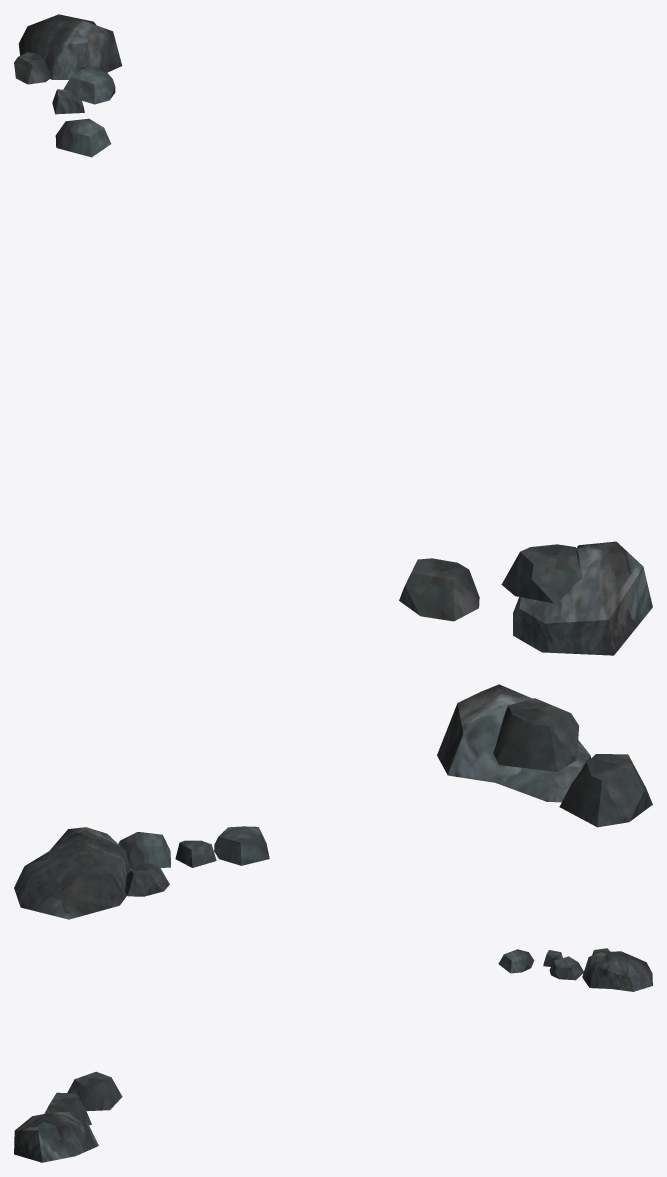
File: object_rubble28.fbx
The picture shows the model from 3 angles, top to bottom: view 1: azimuth 30°, elevation 25°; view 2: azimuth 150°, elevation 25°; view 3: azimuth 270°, elevation 25°; orthographic projection. The views are drawn at different scales.
Parts seen in each view (by area): view 1: Material_#238683587/cliffside; view 2: Material_#238683587/cliffside; view 3: Material_#238683587/cliffside.
Part boxes in pixels (x1,y1,x2,y2): Material_#238683587/cliffside: [14, 14, 652, 655]; Material_#238683587/cliffside: [14, 684, 652, 919]; Material_#238683587/cliffside: [14, 948, 652, 1162].
Size of the model in its own units: 1.99 by 2.69 by 8.41.
